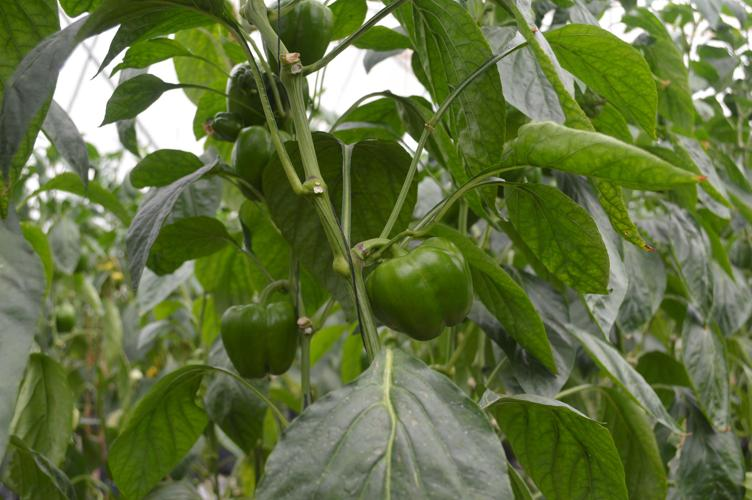BellPepper: (363, 241, 478, 344), (219, 297, 311, 384), (216, 43, 287, 124), (260, 3, 341, 68), (227, 126, 284, 198)
